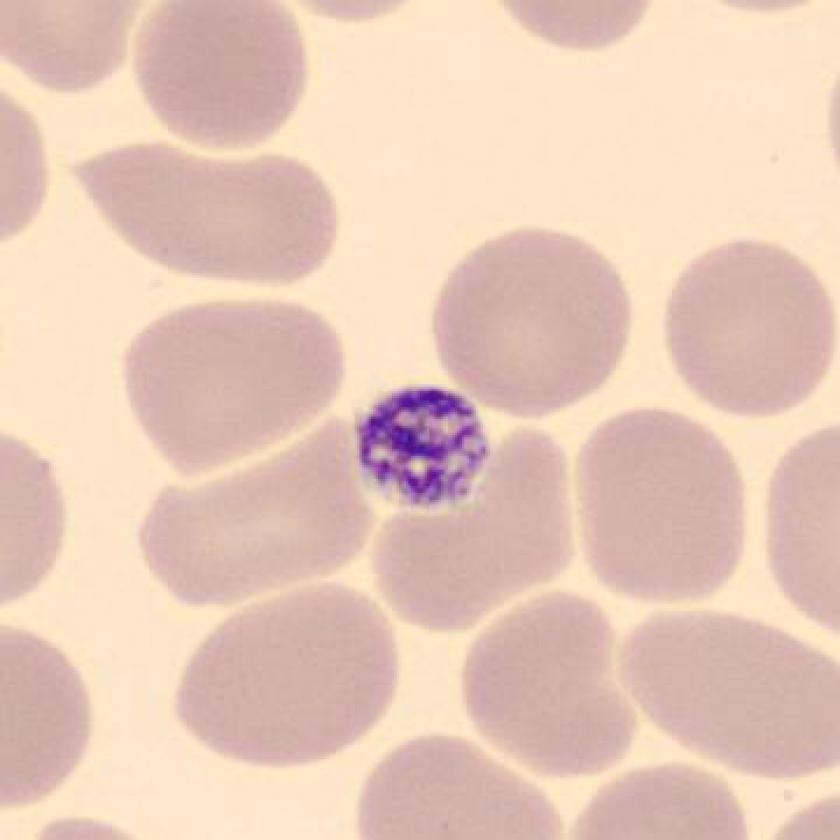platelets: (353, 387, 496, 517)
